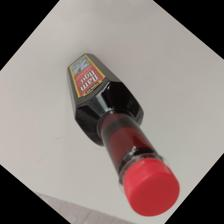Namngu: (64, 52, 182, 216)
